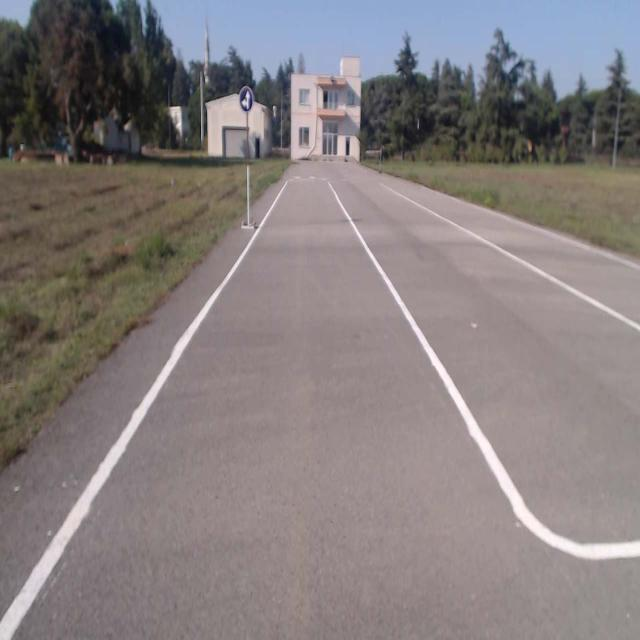ilerisol: (240, 85, 254, 112)
